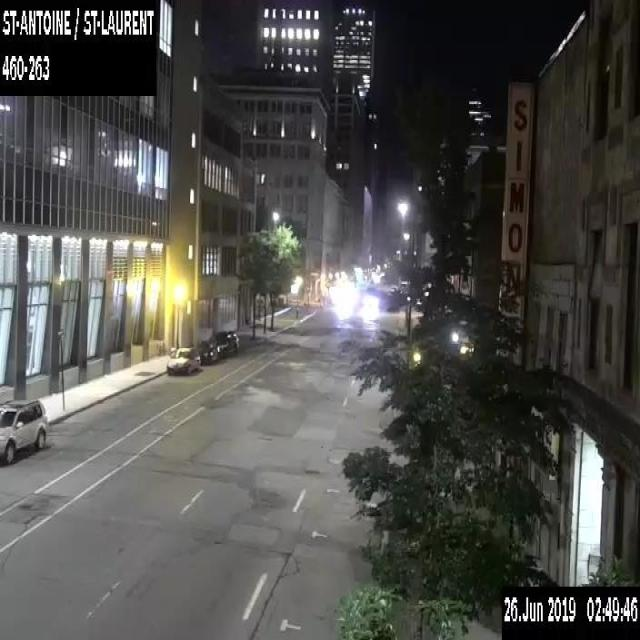pedestrian: (295, 303, 298, 317)
vehicle: (0, 396, 49, 465), (166, 346, 200, 374), (196, 340, 224, 362), (215, 329, 239, 354)
